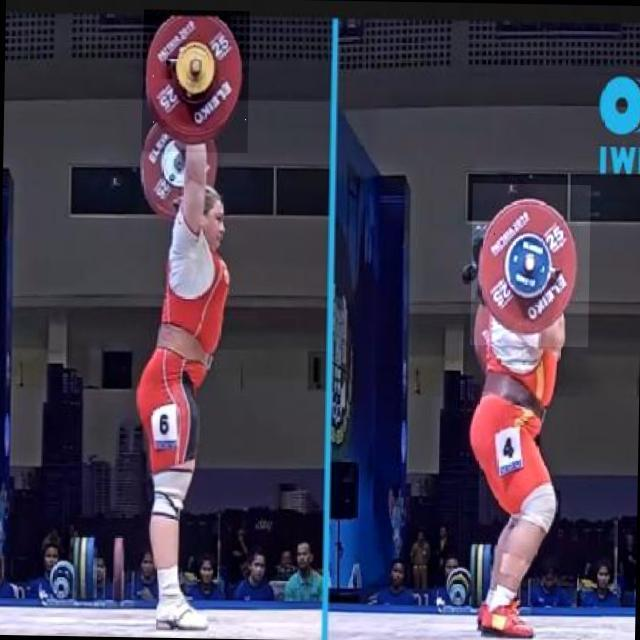barbell: (471, 184, 592, 348), (142, 10, 250, 154)
